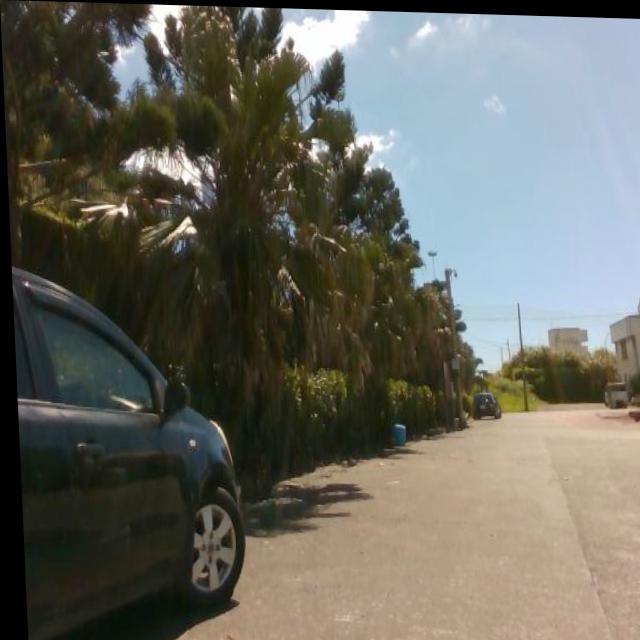pollute: (385, 420, 407, 443)
